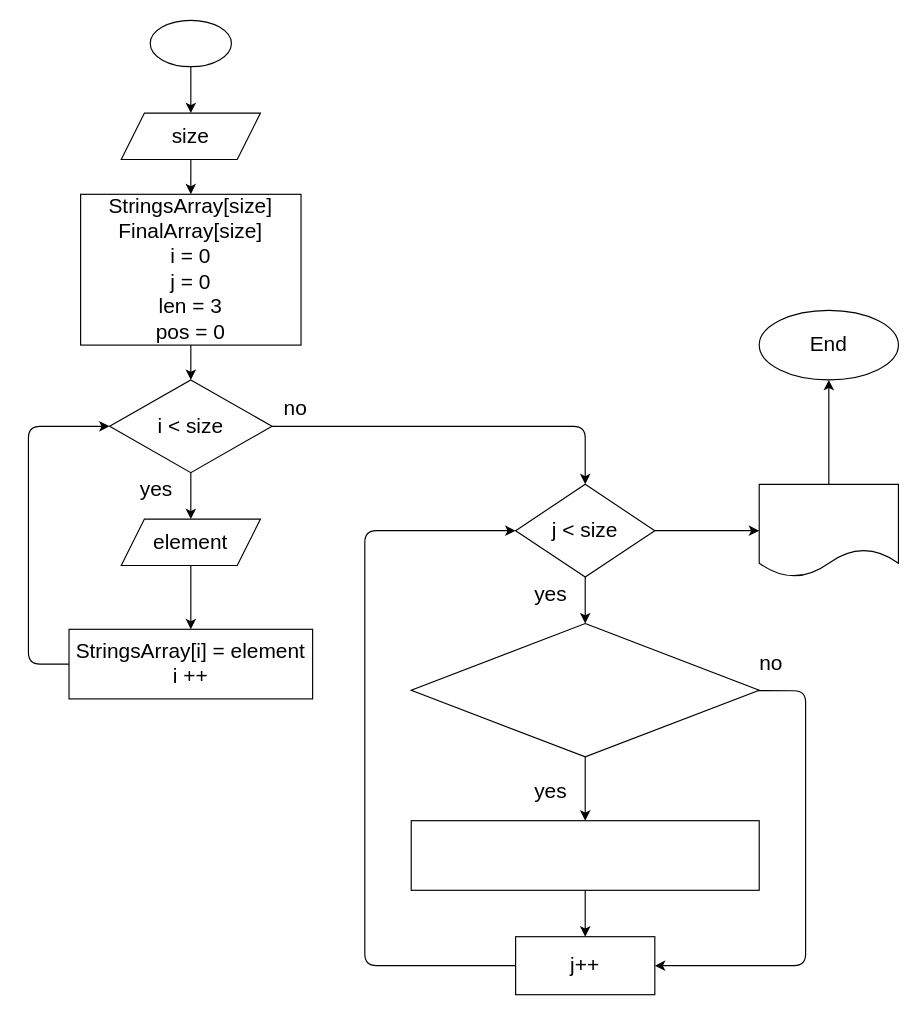
The diagram is 919 pixels wide and 1015 high, and some of its shapes have lost their labels. Here are the shapes that lost their labels. From the top down, the centre of each, then its label:
At pixel 190 43: "Start".
At pixel 828 530: "FinalArray".
At pixel 584 689: "StringsArray[j].Length <= len".
At pixel 584 855: "FinalArray[pos] = StringsArray[j] pos++".
